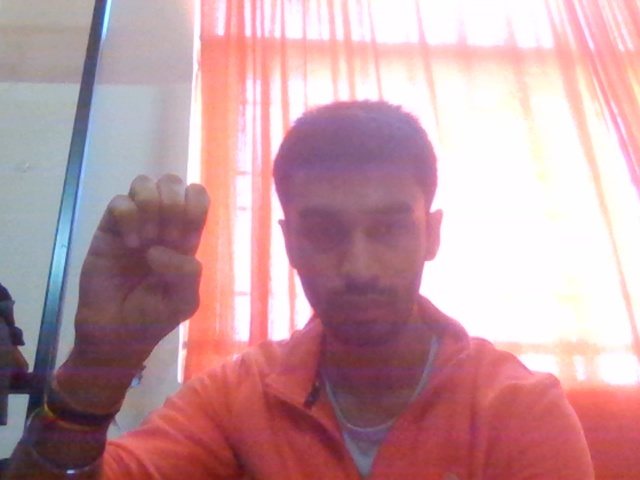E: (67, 141, 219, 403)
